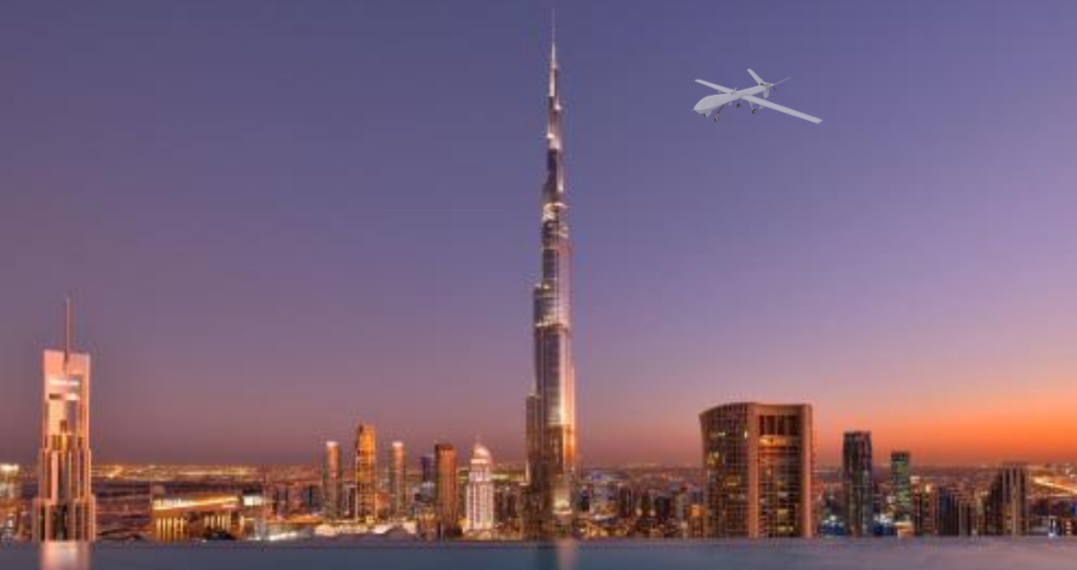military drone: (690, 68, 823, 124)
